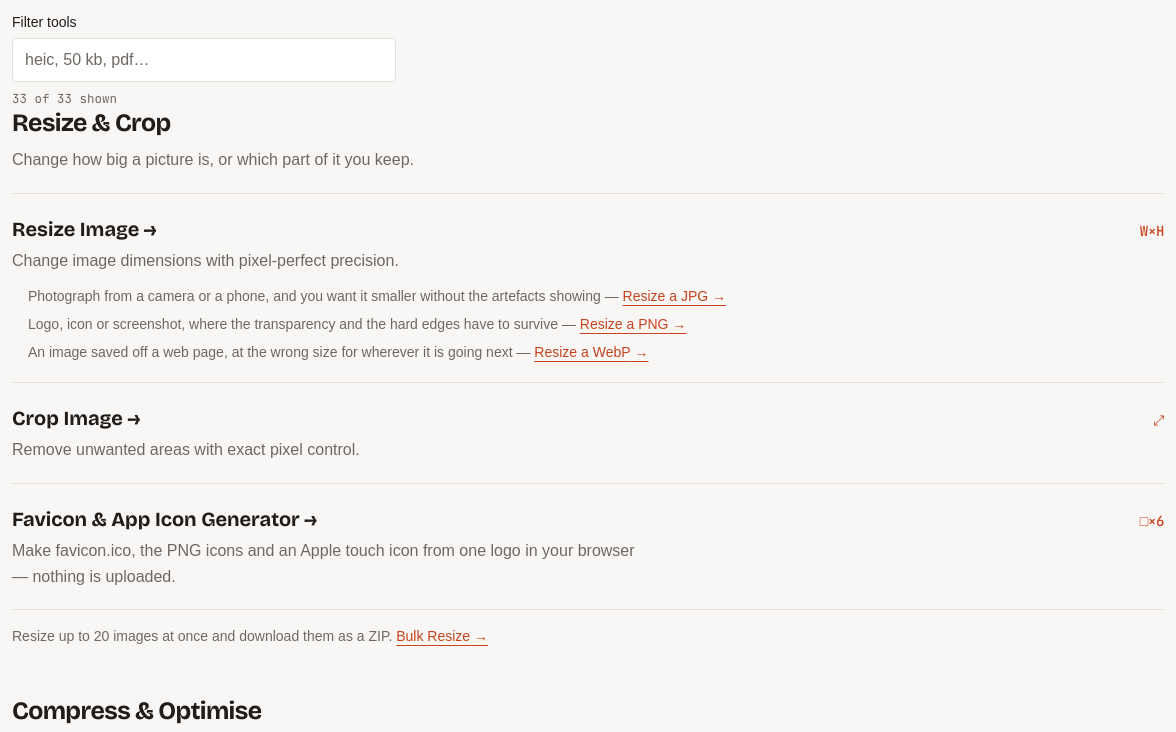
Test: ToolsFilter › says so when nothing matches, and offers the way back
The width and height of the screenshot is (1176, 732).
Type "watermark remover" into the search field labelled "Filter tools" at (204, 60), box x1=12 y1=38 x2=396 y2=82
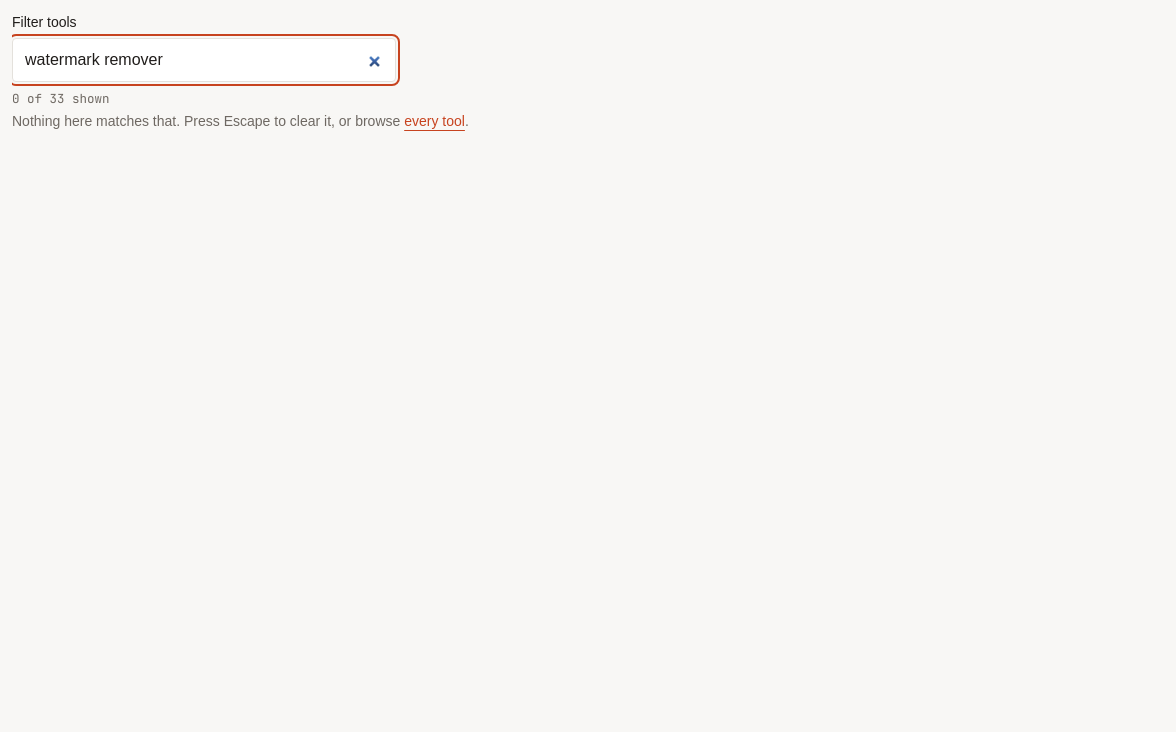
Expected: the text "Nothing here matches" is shown, x1=12 y1=113 x2=400 y2=129
